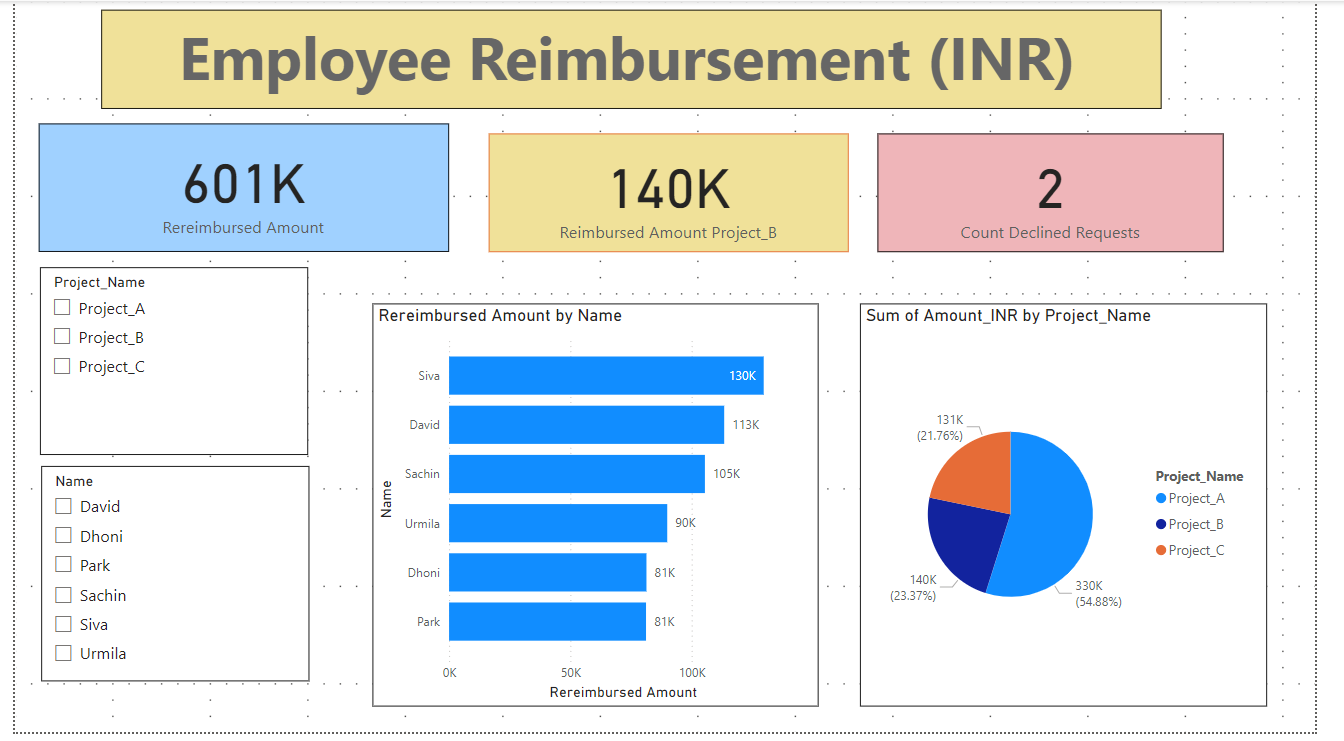

Layout of this report page (visuals, bound fields, positions):
{"tool":"powerbi","page":{"name":"Employee Reimbursement","canvas":[1280,720],"ordinal":0},"visuals":[{"type":"card","fields":{"Values":["fact_reimbursement.Rereimbursed Amount"]},"box":[23.4,120.6,403.7,126.8],"z":0},{"type":"card","fields":{"Values":["fact_reimbursement.Reimbursed Amount Project_B"]},"box":[466.5,130.5,354.5,116.9],"z":1000},{"type":"card","fields":{"Values":["fact_reimbursement.Count Declined Requests"]},"box":[849.2,130.5,340.9,116.9],"z":2000},{"type":"slicer","fields":{"Values":["fact_reimbursement.Project_Name"]},"box":[24,262.6,264,184.9],"z":3000},{"type":"slicer","fields":{"Values":["Dim_employee.Name"]},"box":[25.4,457.4,264,211.8],"z":3001},{"type":"barChart","fields":{"Category":["Dim_employee.Name"],"Y":["fact_reimbursement.Rereimbursed Amount"]},"box":[351.5,297.9,439.1,396.7],"z":3002},{"type":"pieChart","fields":{"Category":["fact_reimbursement.Project_Name"],"Y":["fact_reimbursement.Amount_INR"]},"box":[831.5,297.9,400.9,396.7],"z":3003},{"type":"textbox","box":[84.7,8.5,924.7,97.4],"z":3004}]}

Visuals, with their boxes in screenshot pixels (x1, y1, x2, y2), scaled from the page's 1280x720 canvas onto the 1344x741 screenshot:
card - fact_reimbursement.Rereimbursed Amount: 25 124 448 255
card - fact_reimbursement.Reimbursed Amount Project_B: 490 134 862 255
card - fact_reimbursement.Count Declined Requests: 892 134 1250 255
slicer - fact_reimbursement.Project_Name: 25 270 302 461
slicer - Dim_employee.Name: 27 471 304 689
barChart - Dim_employee.Name x fact_reimbursement.Rereimbursed Amount: 369 307 830 715
pieChart - fact_reimbursement.Project_Name x fact_reimbursement.Amount_INR: 873 307 1294 715
textbox: 89 9 1060 109
